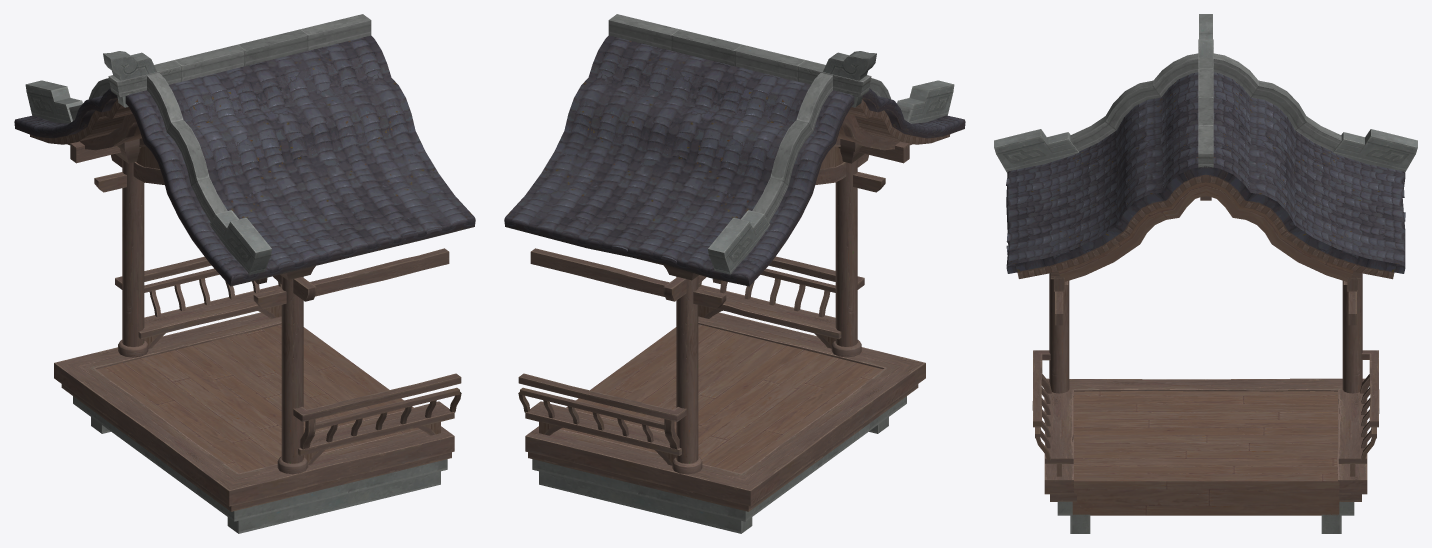
Rendered from Homeworld_Exterior_Cyg_Build_YlbChanglang_01_Lod0.fbx.
The picture shows the model from 3 angles, left to right: view 1: azimuth 30°, elevation 25°; view 2: azimuth 150°, elevation 25°; view 3: azimuth 270°, elevation 25°; orthographic projection. The views are drawn at different scales.
Visible parts, largest first — view 1: Homeworld_Exterior_Cyg_Build_YlbChanglang_01_Lod0; view 2: Homeworld_Exterior_Cyg_Build_YlbChanglang_01_Lod0; view 3: Homeworld_Exterior_Cyg_Build_YlbChanglang_01_Lod0.
Part boxes in pixels (x1,y1,x2,y2): Homeworld_Exterior_Cyg_Build_YlbChanglang_01_Lod0: (14, 14, 475, 533); Homeworld_Exterior_Cyg_Build_YlbChanglang_01_Lod0: (504, 14, 965, 533); Homeworld_Exterior_Cyg_Build_YlbChanglang_01_Lod0: (994, 14, 1417, 533).
Bounding box in the file's own units: 5.36 × 8.56 × 8.15.
